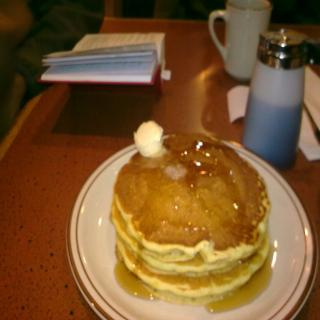Pancake: (116, 134, 271, 259), (110, 193, 272, 274), (116, 225, 272, 300)
